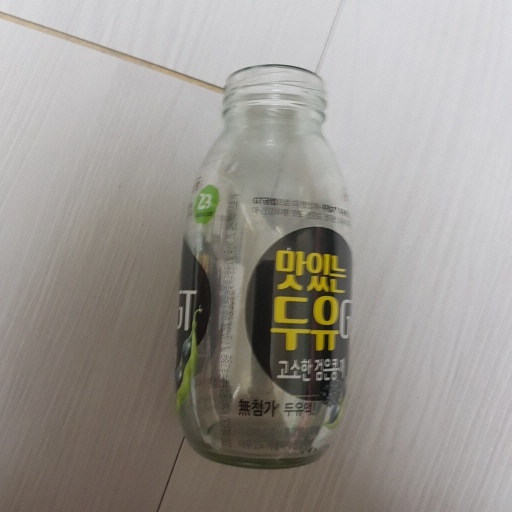Glass_4: (167, 61, 360, 474)
